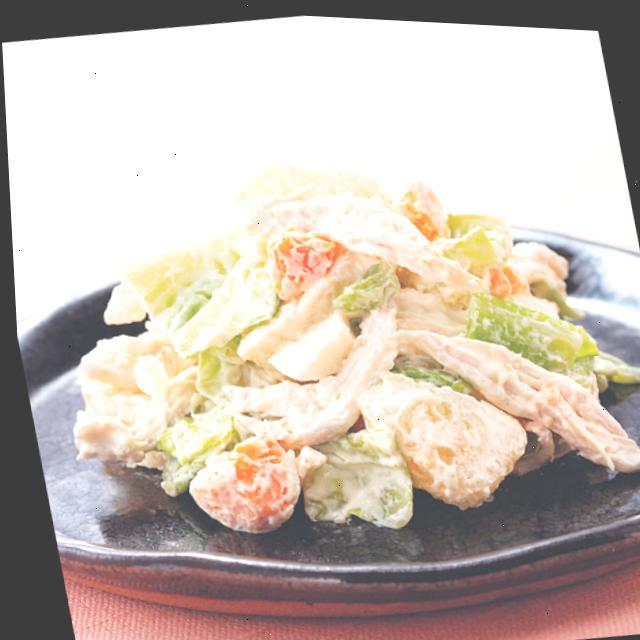蔬菜料理: (5, 119, 640, 640)
